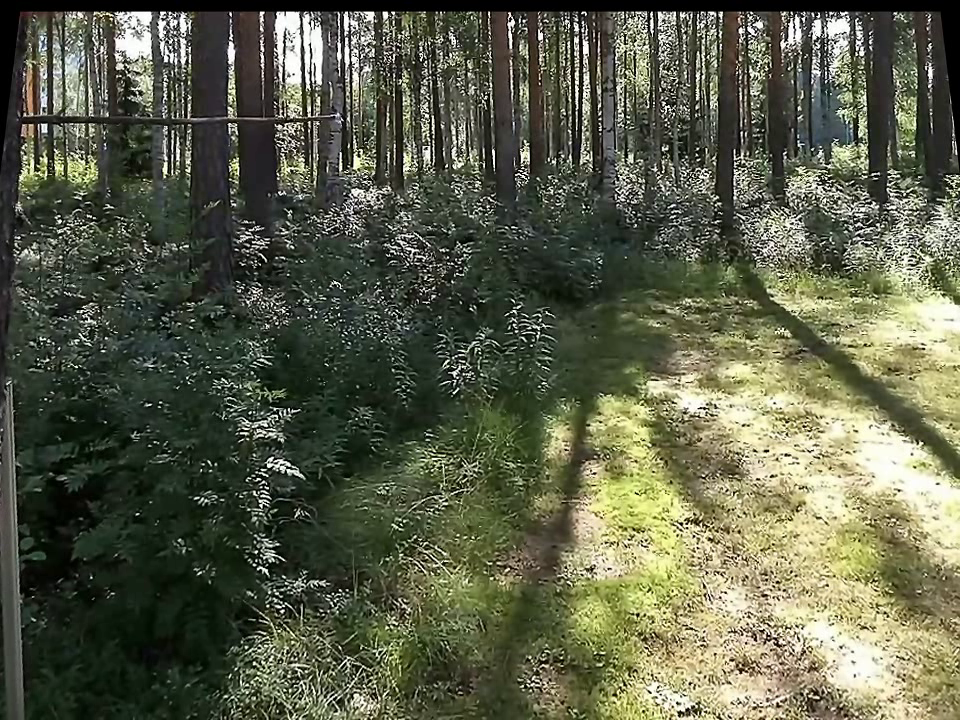aluminum_frame: (1, 382, 30, 716)
branch: (20, 97, 324, 139)
